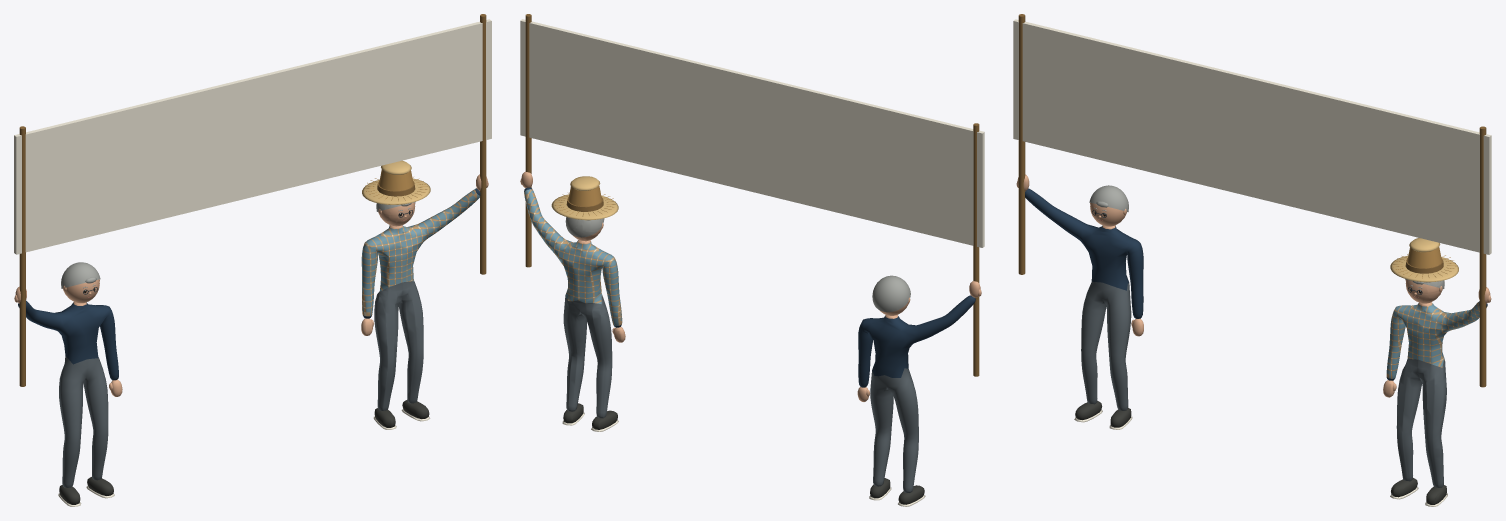
File: supporter_wout.glb
The picture shows the model from 3 angles, left to right: view 1: azimuth 30°, elevation 25°; view 2: azimuth 150°, elevation 25°; view 3: azimuth 330°, elevation 25°; orthographic projection. The views are drawn at different scales.
Parts seen in each view (by area): view 1: SpandoekDoek, StrohoedWoutSupporter, OudereWoutSupporter, SpandoekStokken, Strohoed; view 2: SpandoekDoek, OudereWoutSupporter, StrohoedWoutSupporter, SpandoekStokken, Strohoed; view 3: SpandoekDoek, OudereWoutSupporter, StrohoedWoutSupporter, SpandoekStokken, Strohoed.
Part boxes in pixels (x1,y1,x2,y2): SpandoekDoek: [14, 19, 491, 254]; StrohoedWoutSupporter: [361, 174, 488, 429]; OudereWoutSupporter: [14, 262, 122, 506]; SpandoekStokken: [19, 14, 486, 386]; Strohoed: [362, 160, 430, 204]; SpandoekDoek: [520, 19, 984, 247]; OudereWoutSupporter: [857, 275, 981, 506]; StrohoedWoutSupporter: [520, 171, 625, 431]; SpandoekStokken: [525, 14, 979, 376]; Strohoed: [551, 176, 618, 220]; SpandoekDoek: [1013, 19, 1491, 254]; OudereWoutSupporter: [1016, 174, 1143, 429]; StrohoedWoutSupporter: [1383, 279, 1491, 506]; SpandoekStokken: [1018, 14, 1486, 387]; Strohoed: [1390, 238, 1458, 282].
Bounding box in the file's own units: 3.8 × 3.01 × 0.4407.
